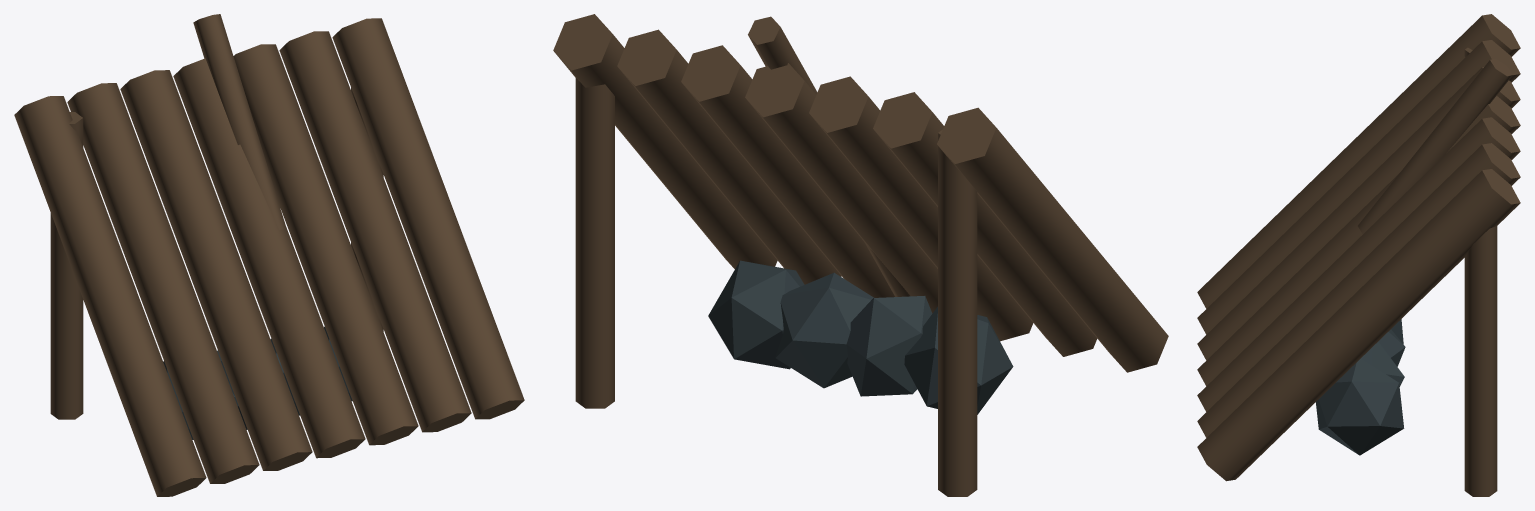
File: charcoal-shelter.glb
The picture shows the model from 3 angles, left to right: view 1: azimuth 30°, elevation 25°; view 2: azimuth 150°, elevation 25°; view 3: azimuth 270°, elevation 25°; orthographic projection. The views are drawn at different scales.
Parts seen in each view (by area): view 1: charcoal-shelter; view 2: charcoal-shelter; view 3: charcoal-shelter.
Part boxes in pixels (bbox=[...]): charcoal-shelter: bbox=[14, 14, 524, 496]; charcoal-shelter: bbox=[553, 14, 1168, 496]; charcoal-shelter: bbox=[1197, 14, 1520, 496].
Size of the model in its own units: 2.03 by 1.94 by 1.59.
